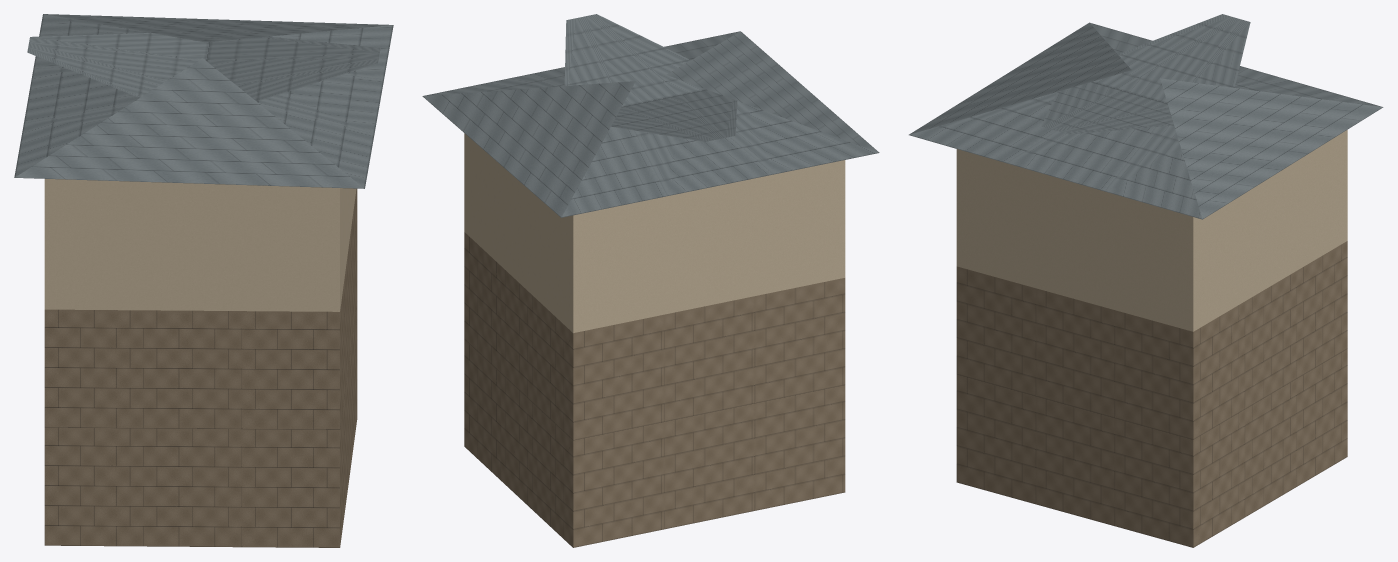
The model's file is bld_c-18_-6_693.gltf.
3 renders of one model, left to right at view 1: azimuth 30°, elevation 25°; view 2: azimuth 150°, elevation 25°; view 3: azimuth 270°, elevation 25°, orthographic. The views are drawn at different scales.
Visible parts, largest first — view 1: bld_c-18_-6_693; view 2: bld_c-18_-6_693; view 3: bld_c-18_-6_693.
Boxes of the visible parts, left/top/right/bottom form: bld_c-18_-6_693: left=14, top=14, right=393, bottom=547; bld_c-18_-6_693: left=422, top=14, right=879, bottom=547; bld_c-18_-6_693: left=909, top=14, right=1383, bottom=547.
Bounding box in the file's own units: 9.02 × 8.4 × 9.19.
3 materials, 3 textured.
